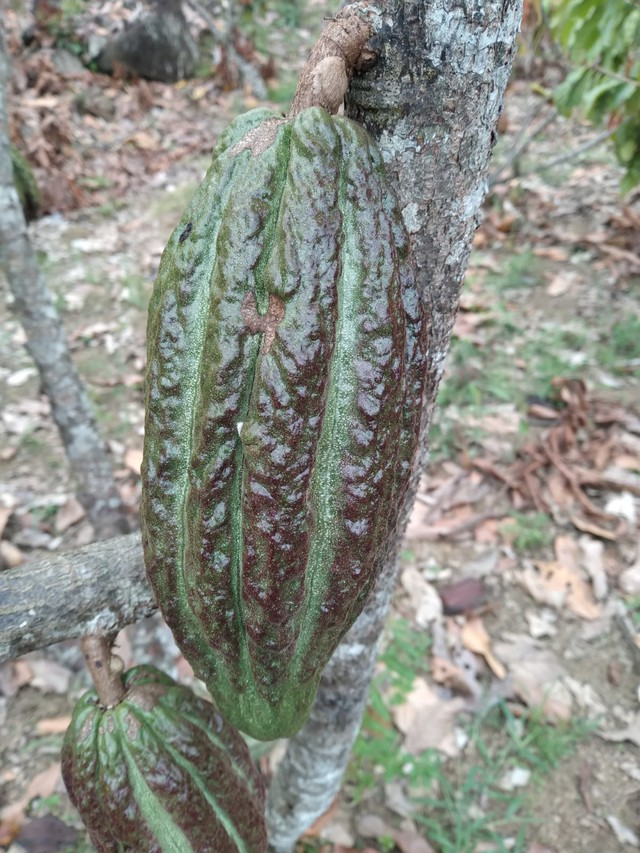Health: (126, 99, 442, 747)
